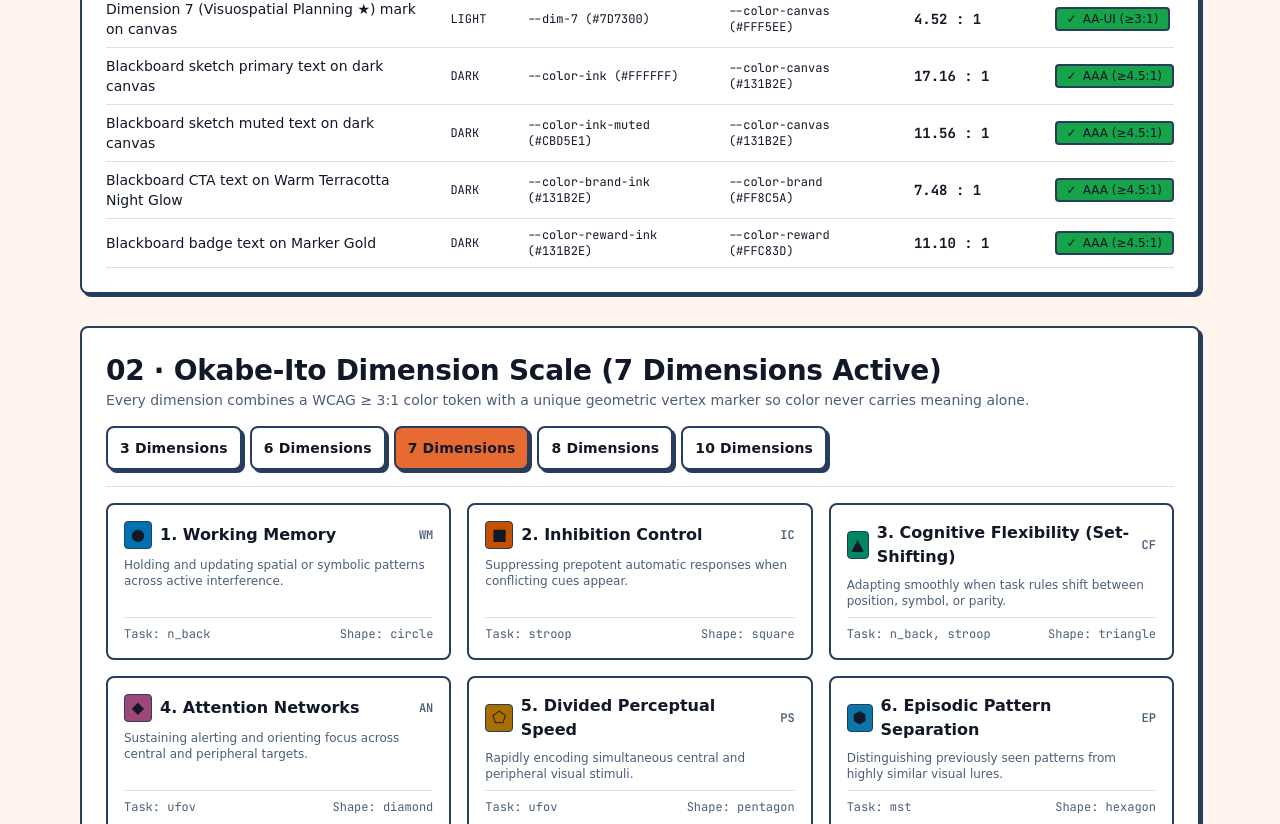
Test: Wave 1 & Wave 2 Pages & Design System Unit Suite › renders Page 18 (/design-system) and supports 3-to-10 dimension switching and radar table toggle
The width and height of the screenshot is (1280, 824).
(page scrolled)
What coordinates should you click on to do the following:
click the button "10 Dimensions"
I would click on:
 (754, 448)
Its box is [681, 426, 827, 470].
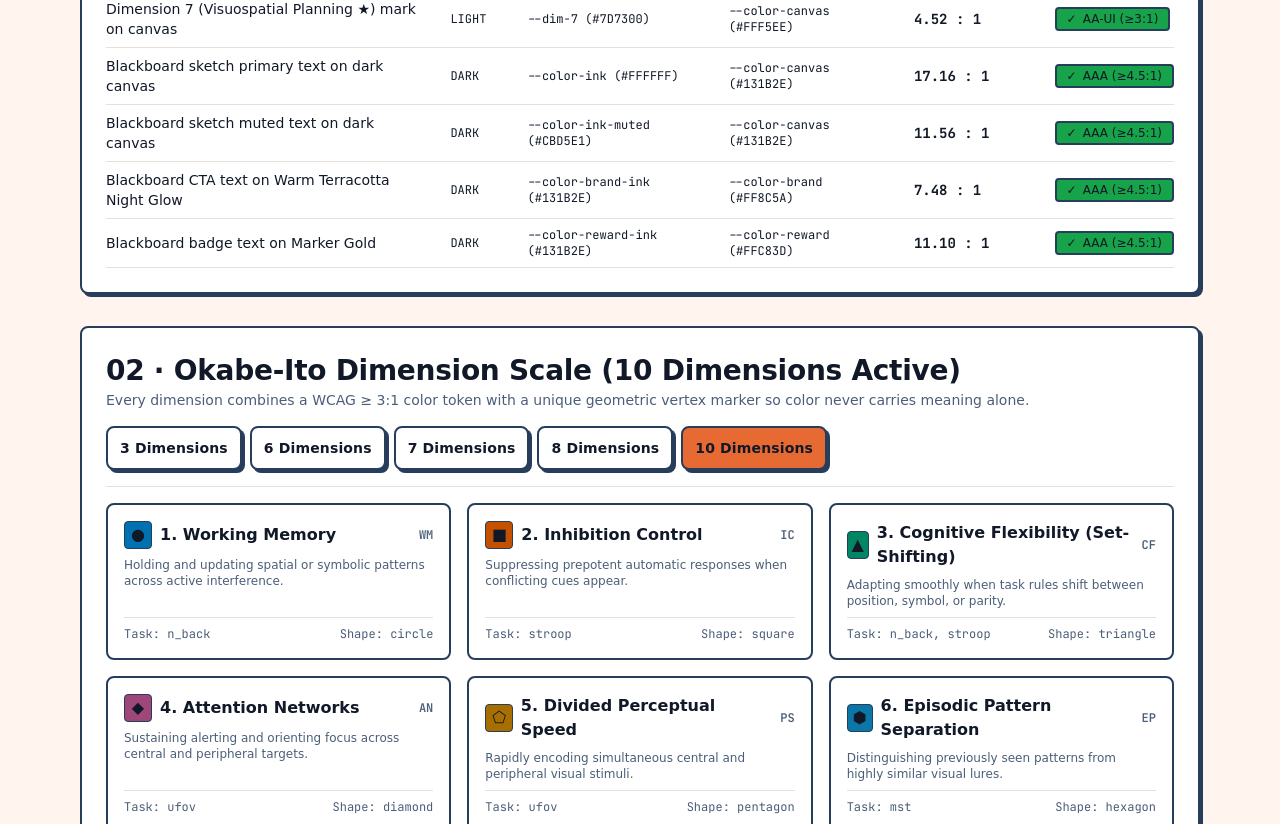
Expected: the heading "02 · Okabe-Ito Dimension Scale (10 Dimensions Active)" is shown, [106, 352, 1029, 390]
What coordinates should you click on to do the following:
click the button "3 Dimensions"
I would click on:
 (174, 448)
Its box is [106, 426, 242, 470].
(page scrolled)
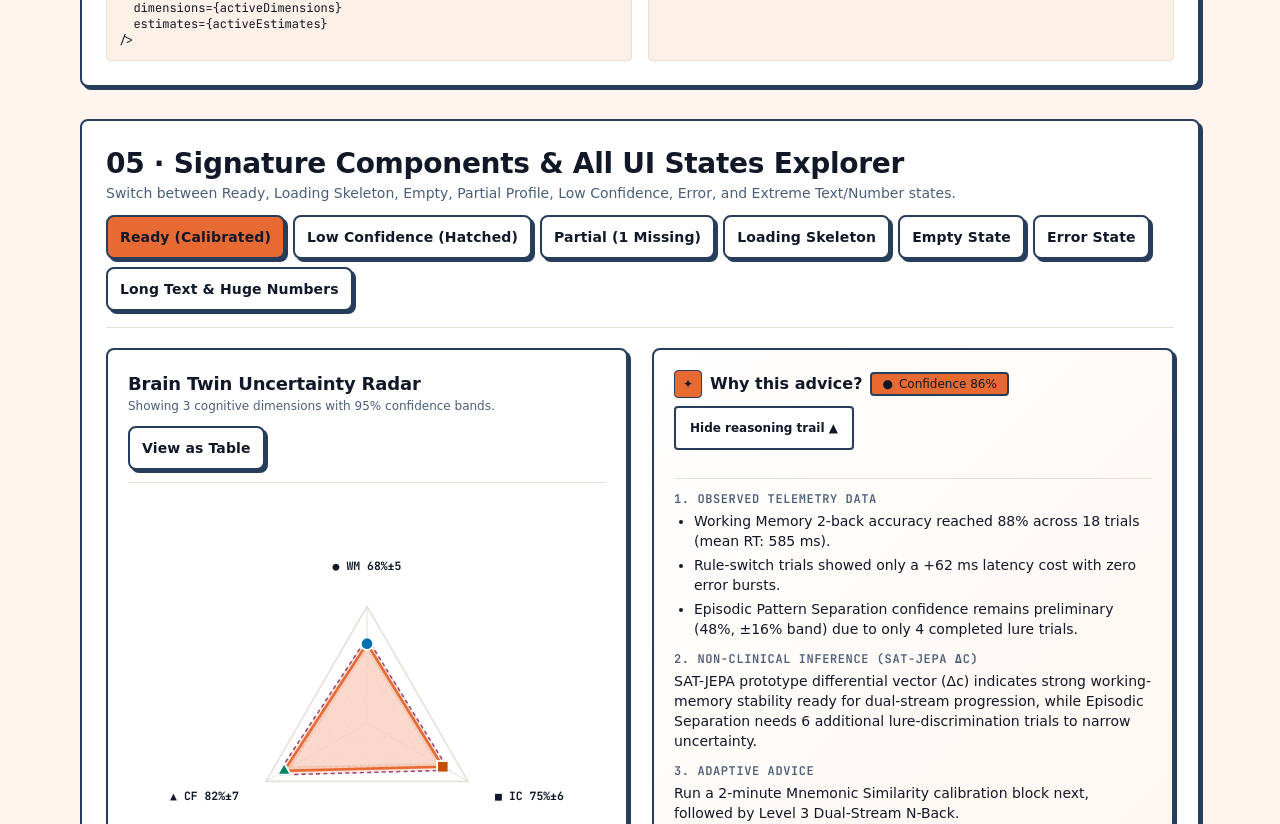
What coordinates should you click on to do the following:
click the button "View as Table"
I would click on:
 (196, 448)
Its box is [128, 426, 265, 470].
(page scrolled)
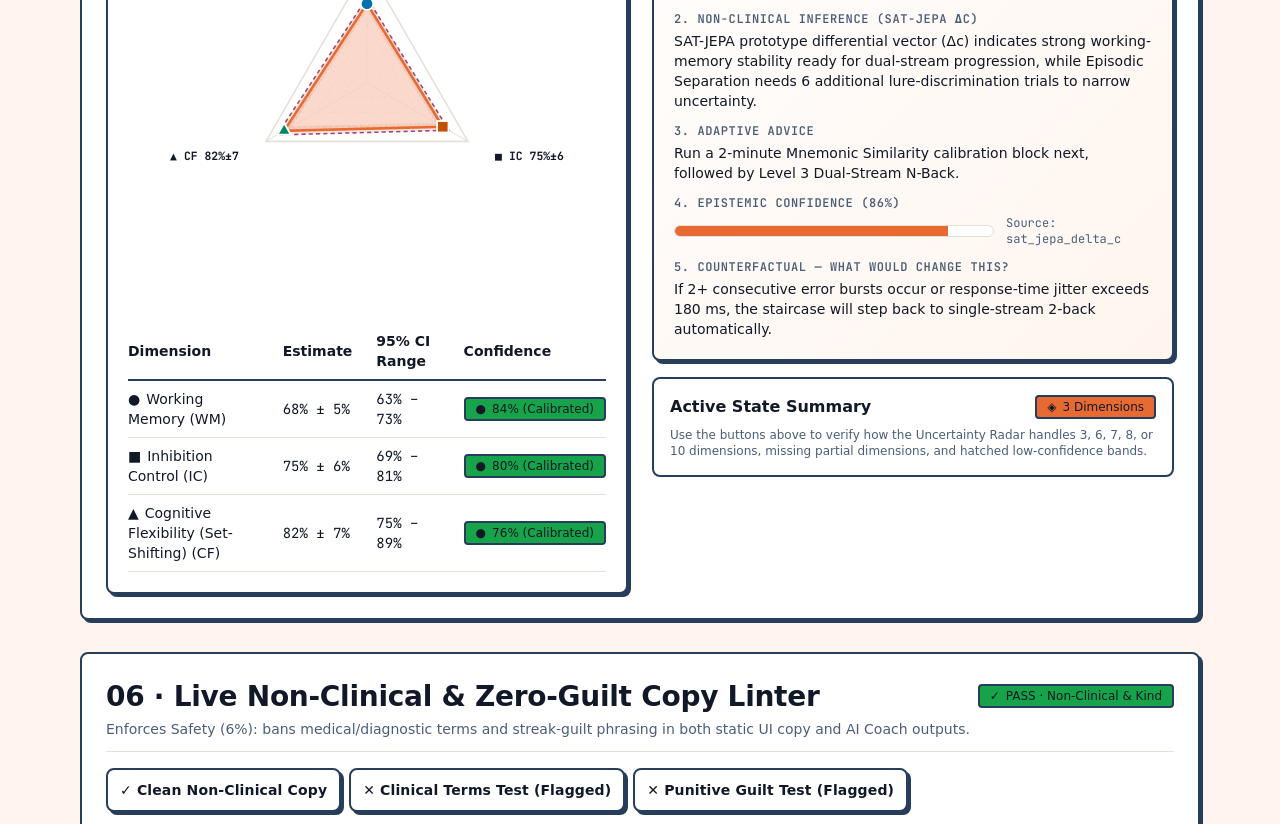
Expected: the table named "Brain Twin Uncertainty Radar accessible data table" is shown, [128, 323, 606, 572]
